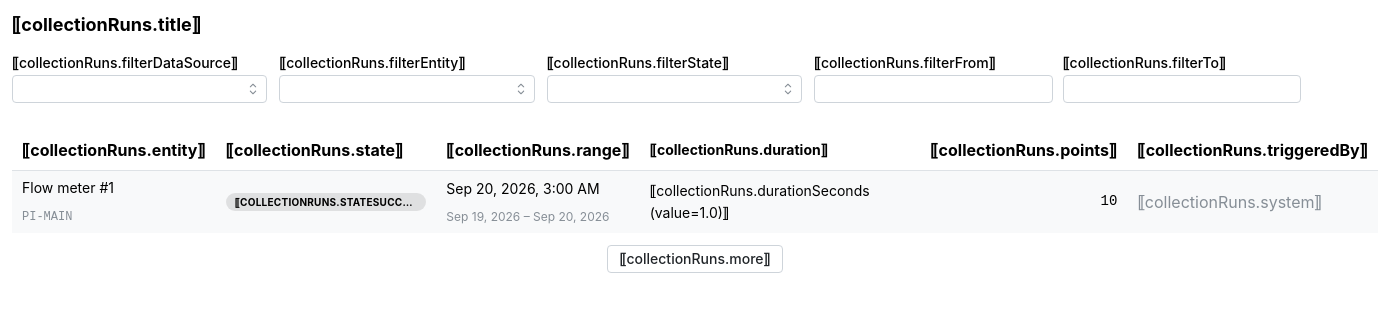
Test: CollectionRunsPanel: "показати ще" дочитує курсор › перша сторінка показує nextCursor кнопкою; клік довантажує ДРУГУ, не замінюючи першу
Expected: the text "Flow meter #1" is shown, [22, 179, 114, 196]
Expected: the text "Flow meter #2" is not shown
Click the button "⟦collectionRuns.more⟧". click: x=695, y=259
box: [606, 245, 784, 273]
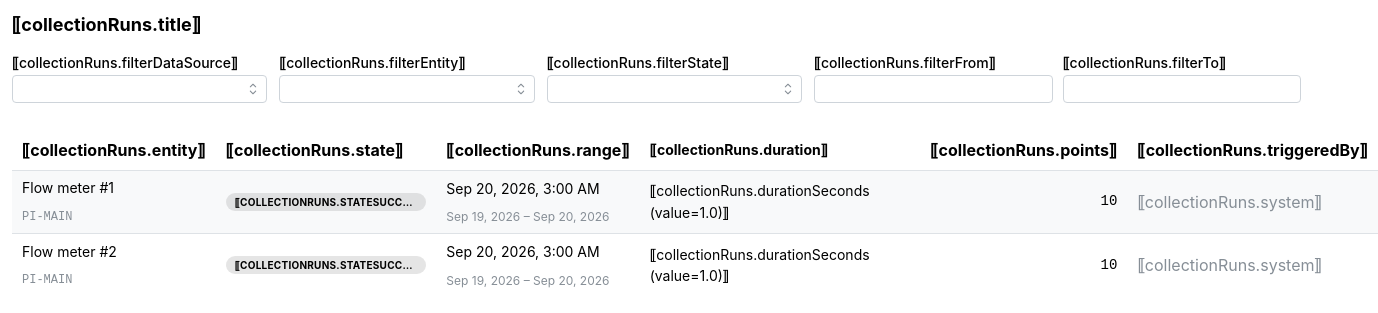
Expected: the text "Flow meter #1" is shown, [22, 179, 114, 196]
Expected: the text "Flow meter #2" is shown, [22, 243, 117, 260]
Expected: the row that starts with "Flow meter #2" is shown, [12, 234, 1377, 297]
